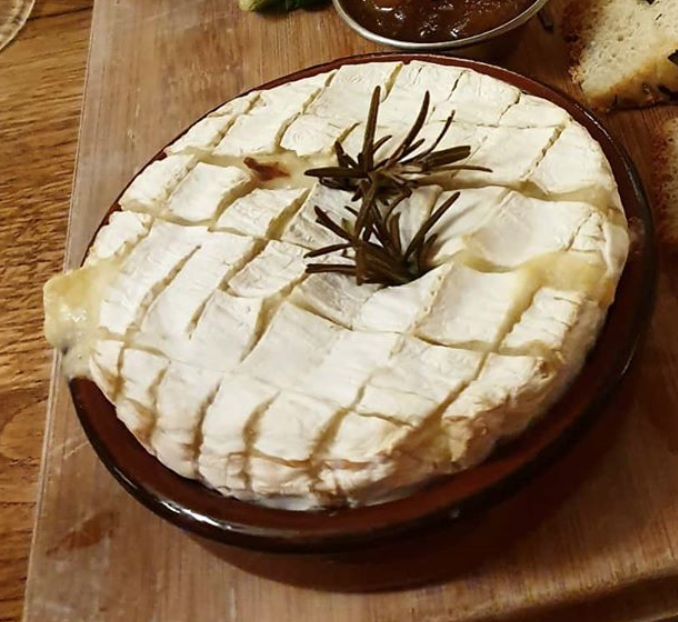camembert: (43, 59, 632, 519)
